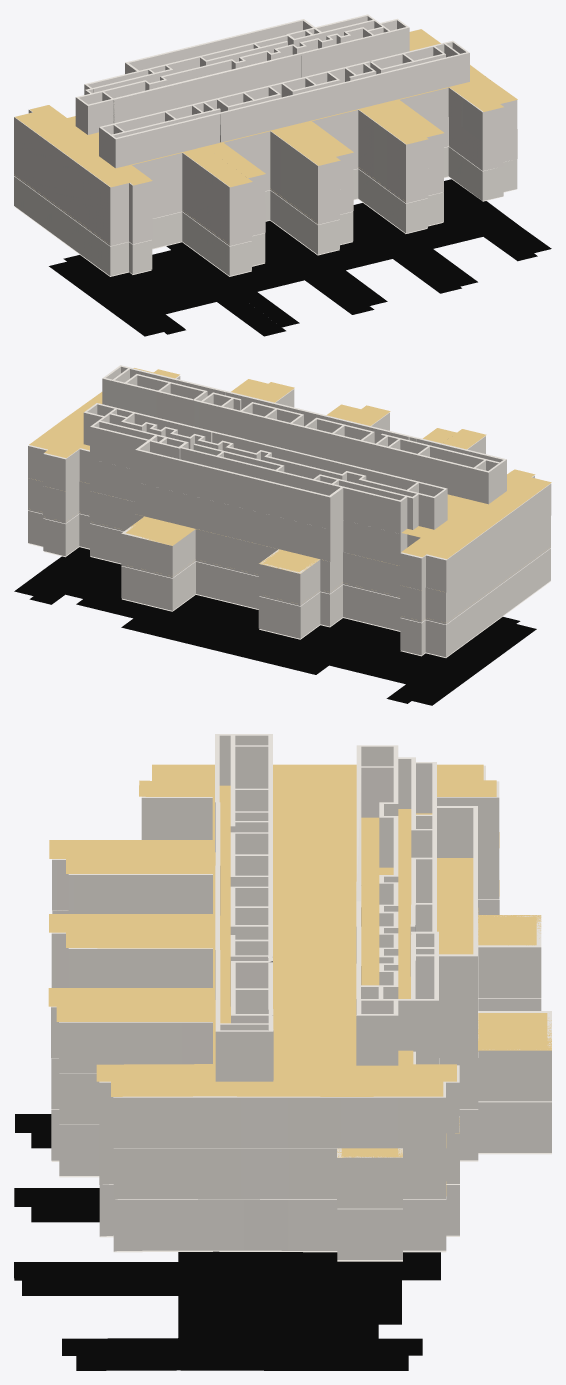
The model's file is Våning3.glb.
3 views of the same model, one above another, from view 1: azimuth 30°, elevation 25°; view 2: azimuth 150°, elevation 25°; view 3: azimuth 270°, elevation 25° (orthographic). The views are drawn at different scales.
Parts seen in each view (by area): view 1: Plane.007, Plane.008, Plane.004, Plane, Plane.002, Plane.005, Plane.001; view 2: Plane.007, Plane.008, Plane.004, Plane.002, Plane, Plane.005, Plane.006, Plane.001; view 3: Plane.005, Plane.004, Plane.007, Plane.008, Plane.002, Plane, Plane.006, Plane.001.
Boxes of the visible parts, x1,y1,x2,y2 form: Plane.007: [75, 14, 469, 168]; Plane.008: [49, 179, 551, 336]; Plane.004: [14, 29, 517, 216]; Plane: [14, 146, 517, 275]; Plane.002: [14, 117, 517, 245]; Plane.005: [15, 29, 517, 187]; Plane.001: [14, 176, 516, 276]; Plane.007: [83, 365, 506, 533]; Plane.008: [14, 547, 536, 705]; Plane.004: [28, 375, 551, 592]; Plane.002: [28, 478, 550, 624]; Plane: [28, 510, 550, 657]; Plane.005: [29, 368, 551, 558]; Plane.006: [35, 479, 440, 591]; Plane.001: [28, 543, 550, 657]; Plane.005: [48, 764, 496, 1096]; Plane.004: [51, 765, 499, 1148]; Plane.007: [215, 734, 477, 1081]; Plane.008: [14, 1114, 440, 1370]; Plane.002: [51, 848, 551, 1208]; Plane: [51, 897, 551, 1259]; Plane.006: [337, 832, 551, 1157]; Plane.001: [51, 1153, 551, 1261].
Size of the model in its own units: 356 by 144 by 230.
